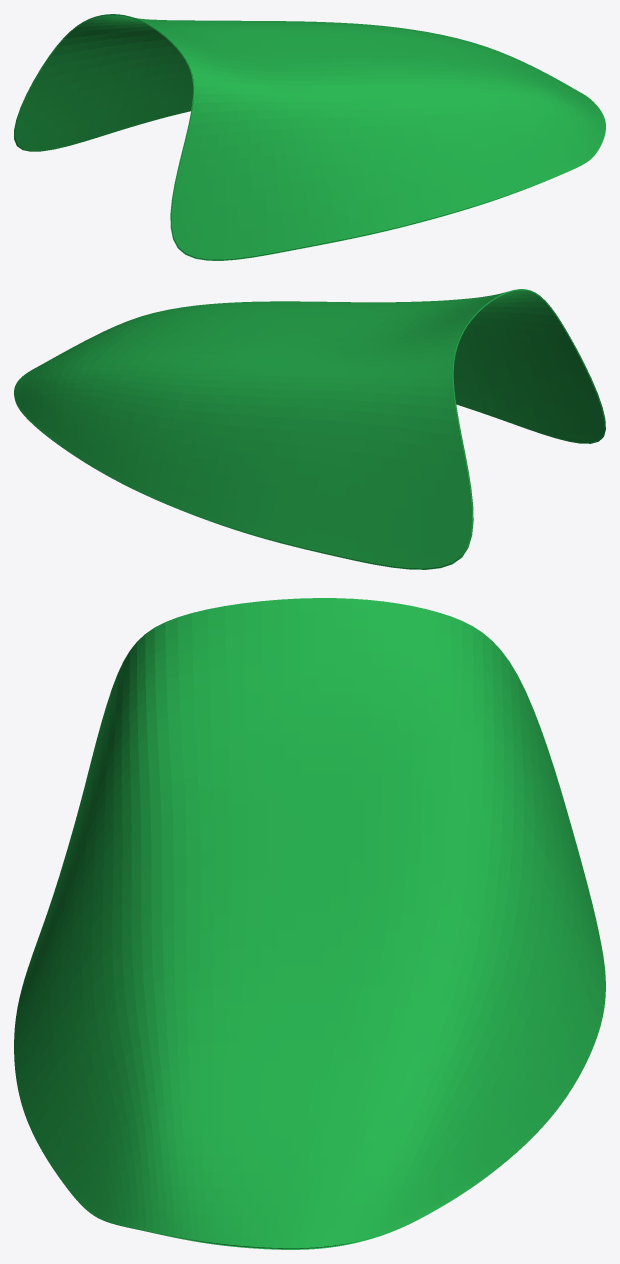
File: frontLeftGreen.obj
3 views of the same model, one above another, from view 1: azimuth 30°, elevation 25°; view 2: azimuth 150°, elevation 25°; view 3: azimuth 270°, elevation 25° (orthographic). The views are drawn at different scales.
Visible parts, largest first — view 1: Plane; view 2: Plane; view 3: Plane.
Part boxes in pixels (x1=…): Plane: x1=14, y1=14, x2=605, y2=260; Plane: x1=14, y1=289, x2=605, y2=569; Plane: x1=14, y1=598, x2=605, y2=1249.
Size of the model in its own units: 22.11 by 7.75 by 13.46.
1 material, 1 textured.
